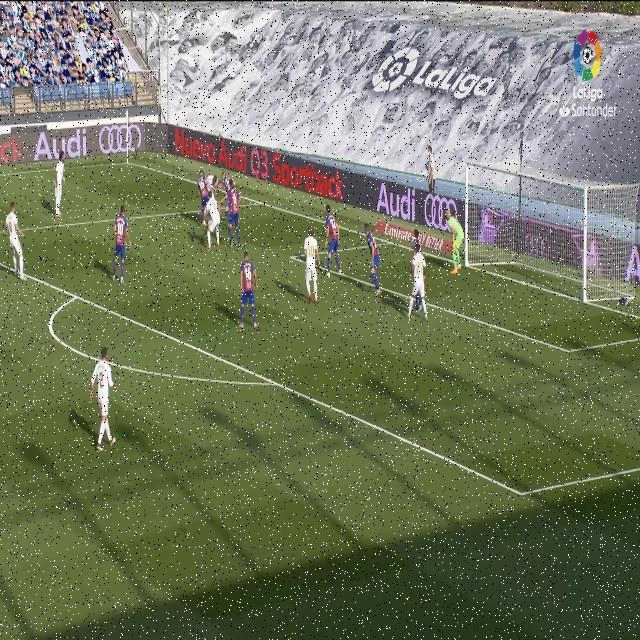GoalKeeper: (442, 198, 467, 278)
TEAM 1: (89, 344, 119, 450), (2, 198, 26, 280), (300, 226, 324, 301), (410, 241, 432, 319), (50, 150, 66, 226), (205, 199, 221, 254), (209, 173, 218, 201)
TEAM 2: (362, 221, 386, 305), (110, 202, 133, 280), (239, 252, 259, 333), (323, 200, 342, 284), (225, 179, 243, 247), (196, 168, 208, 224), (222, 172, 234, 195)
